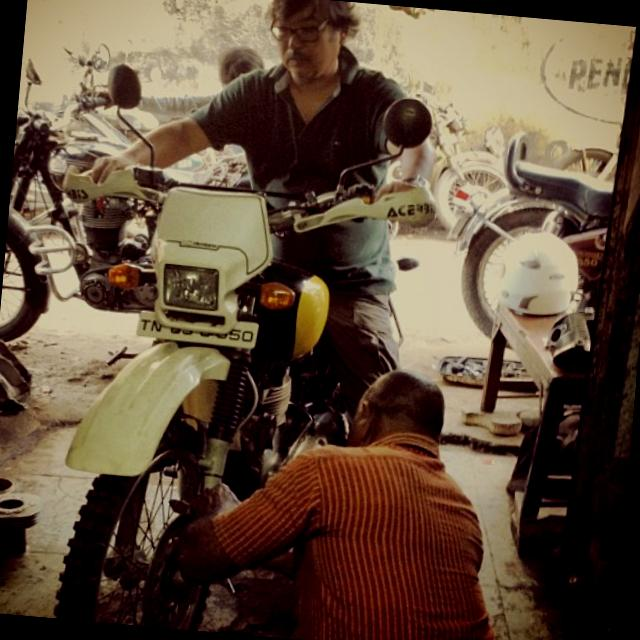Vehicle: (23, 60, 448, 640), (0, 62, 172, 349), (436, 127, 620, 350), (417, 98, 513, 235)
